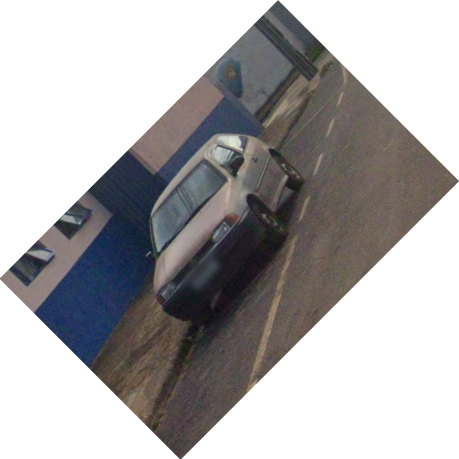car: (142, 128, 307, 325)
